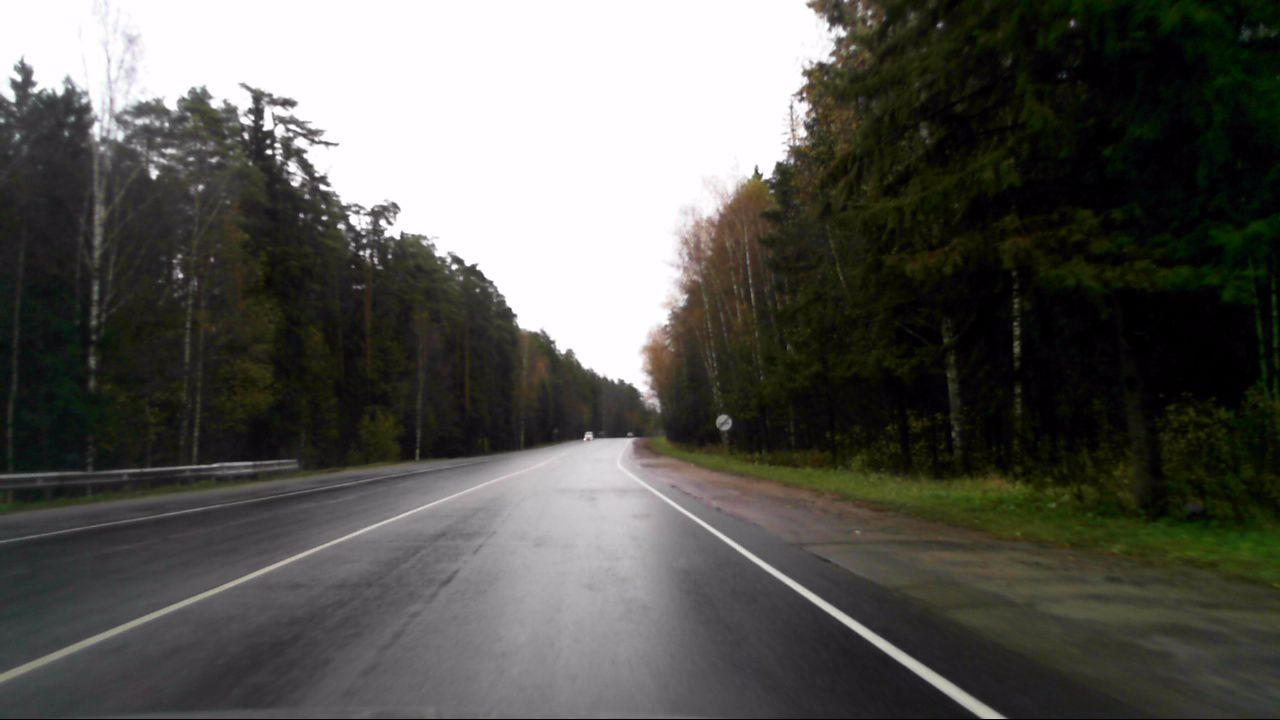3_21: (713, 413, 734, 433)
